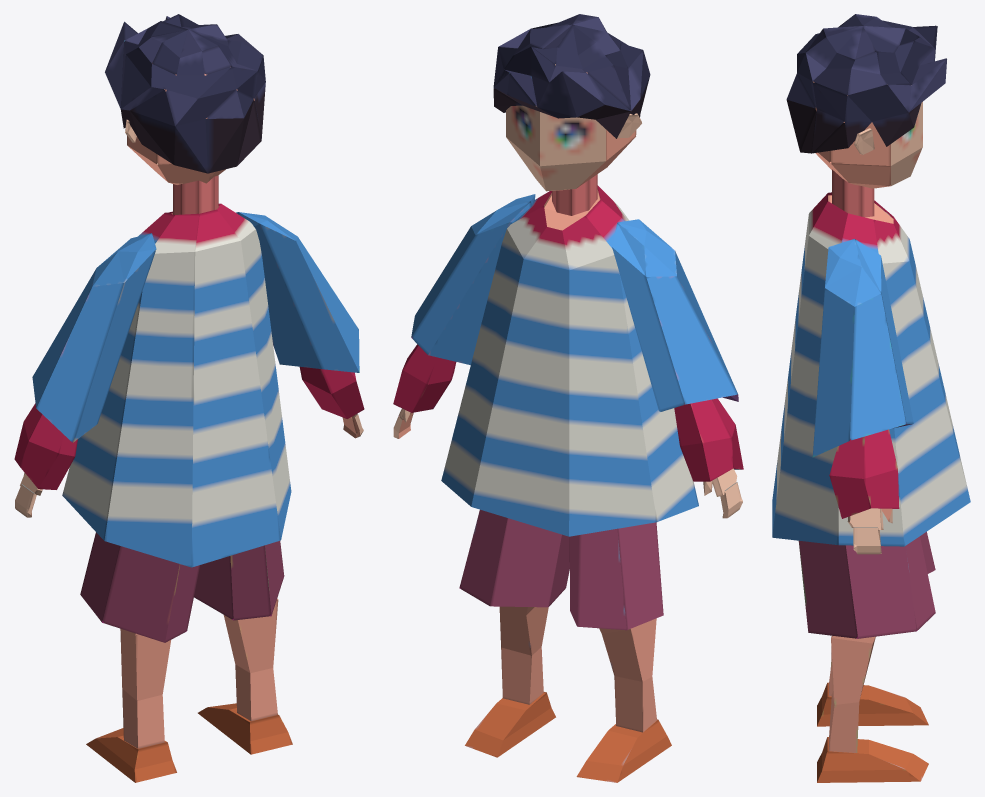
The model's file is char 5.fbx.
3 views of the same model, side by side, from view 1: azimuth 30°, elevation 25°; view 2: azimuth 150°, elevation 25°; view 3: azimuth 270°, elevation 25° (orthographic).
Parts seen in each view (by area): view 1: shirt, hair, sleeve2, sleeve1, short 2, short 1, leg2_1, leg1_1, insleeve2, foot 2, foot 1, insleeve1 (+2 smaller); view 2: shirt, hair, sleeve2, short 2, sleeve1, short 1, face, leg2_1, insleeve2, leg1_1, foot 2, foot 1 (+3 smaller); view 3: shirt, hair, sleeve1, short 1, insleeve1, face, leg1_1, foot 1, foot 2, neck, fingers 1, palm 1 (+1 smaller).
Part boxes in pixels (x1,y1,x2,y2): shirt: (62, 203, 291, 567); hair: (105, 14, 265, 173); sleeve2: (32, 233, 156, 442); sleeve1: (236, 212, 359, 372); short 2: (80, 532, 200, 642); short 1: (194, 541, 284, 620); leg2_1: (120, 628, 170, 748); leg1_1: (223, 598, 278, 721); insleeve2: (14, 403, 77, 489); foot 2: (86, 728, 176, 782); foot 1: (198, 703, 292, 754); insleeve1: (299, 366, 364, 418); shirt: (441, 185, 698, 536); hair: (493, 14, 650, 138); sleeve2: (612, 219, 738, 411); short 2: (569, 522, 663, 630); sleeve1: (411, 194, 535, 365); short 1: (459, 509, 569, 607); face: (506, 64, 636, 191); leg2_1: (599, 618, 656, 732); insleeve2: (674, 398, 743, 481); leg1_1: (499, 606, 548, 704); foot 2: (576, 719, 671, 782); foot 1: (465, 692, 555, 757); shirt: (772, 192, 970, 546); hair: (786, 14, 946, 153); sleeve1: (812, 239, 913, 457); short 1: (798, 536, 935, 638); insleeve1: (829, 429, 899, 518); face: (813, 81, 922, 188); leg1_1: (829, 635, 875, 752); foot 1: (817, 737, 928, 782); foot 2: (817, 682, 928, 726); neck: (832, 169, 874, 217); fingers 1: (853, 527, 881, 554); palm 1: (847, 508, 883, 529).
Bounding box in the file's own units: 200 × 408 × 102.
1 material, 1 textured.
